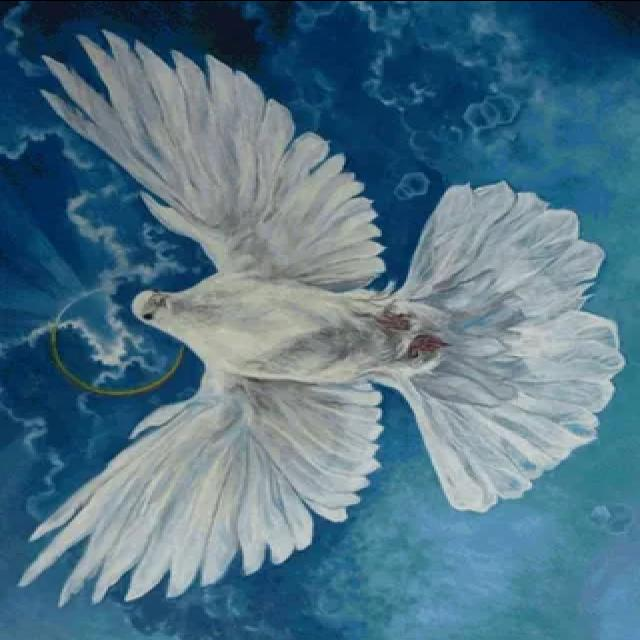pigeon: (4, 25, 628, 608)
